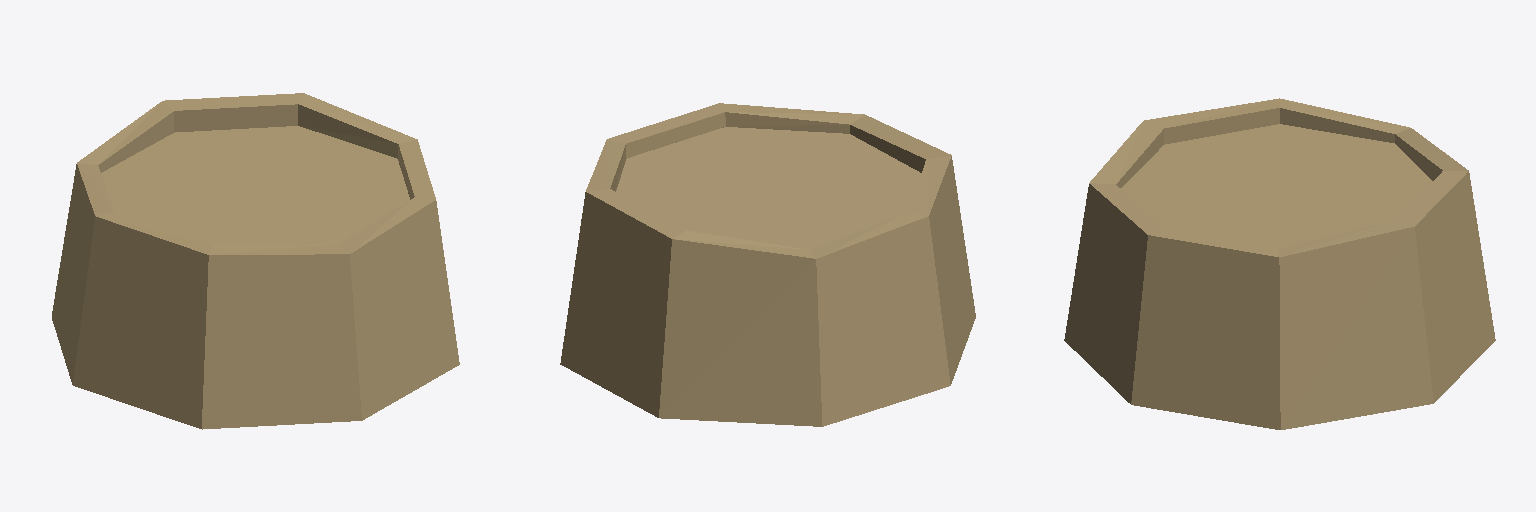
The model's file is log0.obj.
The picture shows the model from 3 angles: view 1: azimuth 30°, elevation 25°; view 2: azimuth 150°, elevation 25°; view 3: azimuth 270°, elevation 25°; orthographic projection.
Visible parts, largest first — view 1: Object_20; view 2: Object_20; view 3: Object_20.
Part boxes in pixels (x1,y1,x2,y2): Object_20: (52, 93, 459, 429); Object_20: (560, 103, 975, 426); Object_20: (1064, 98, 1495, 429).
Size of the model in its own units: 8.67 by 3.89 by 8.85.